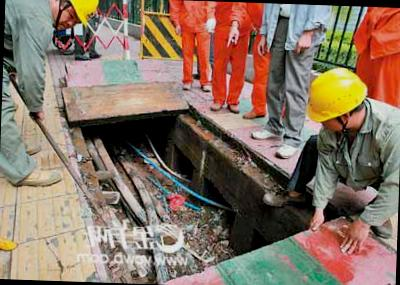person: (261, 63, 400, 247), (0, 0, 103, 191)
